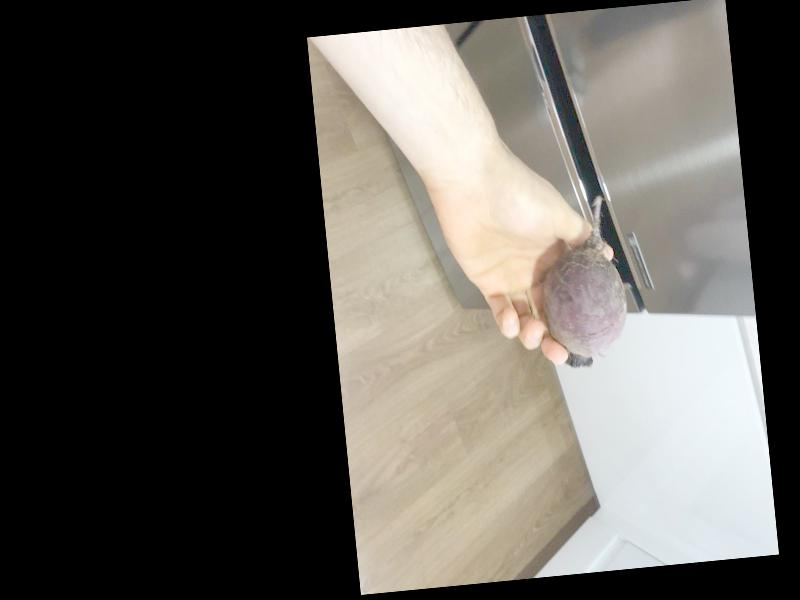Beet: (535, 197, 631, 371)
